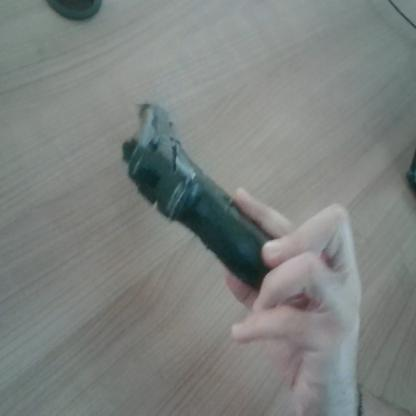handgun: (107, 84, 297, 341)
